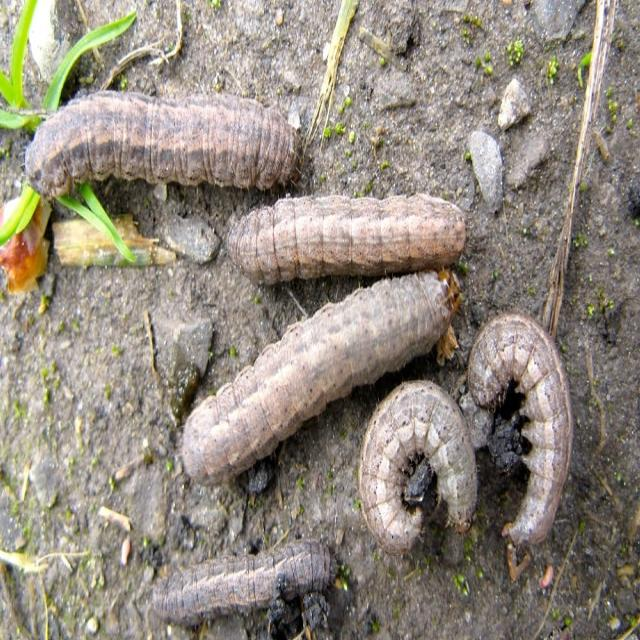worm: (182, 268, 463, 489), (25, 88, 304, 203), (467, 312, 575, 549), (228, 192, 468, 286), (359, 379, 479, 557), (150, 538, 336, 629)
